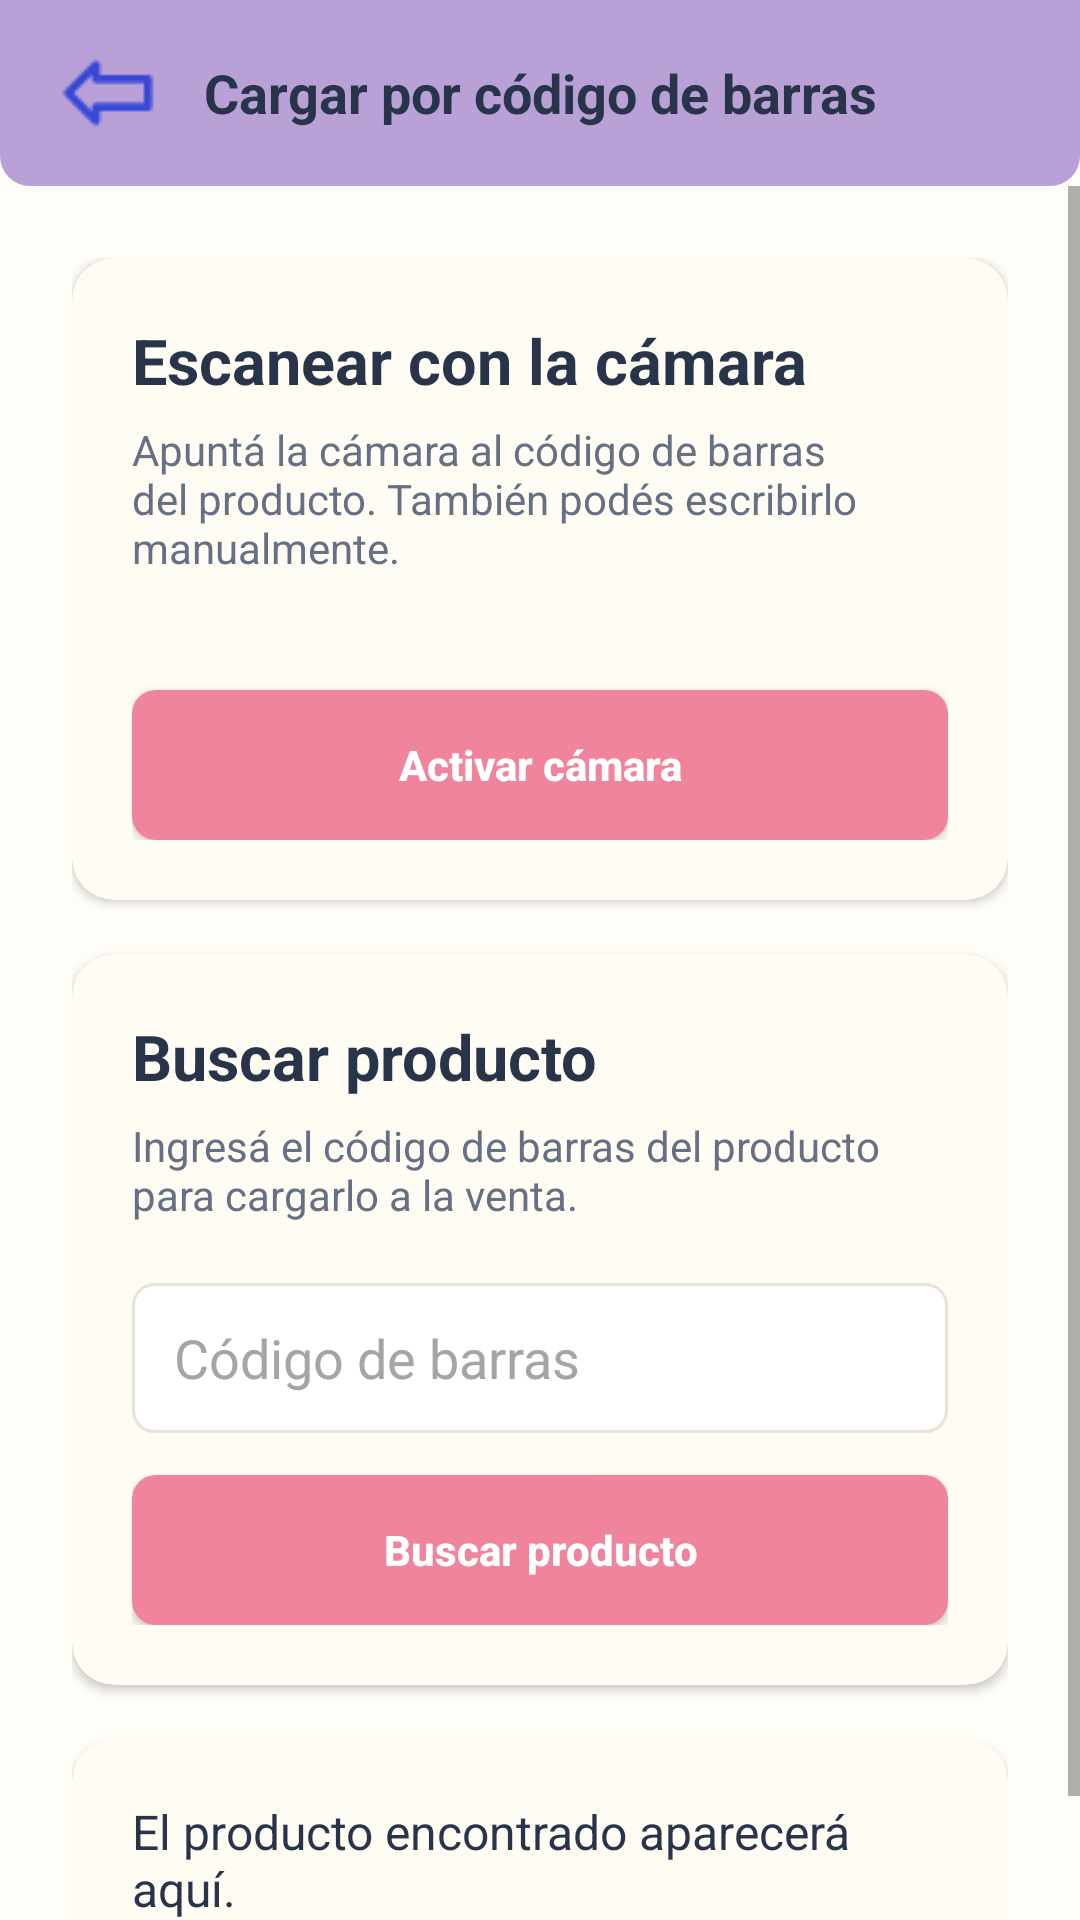

Icons on this 1080px×1920px Android screen, each with the point to tap as [x,y]:
Volver: [108,93]
